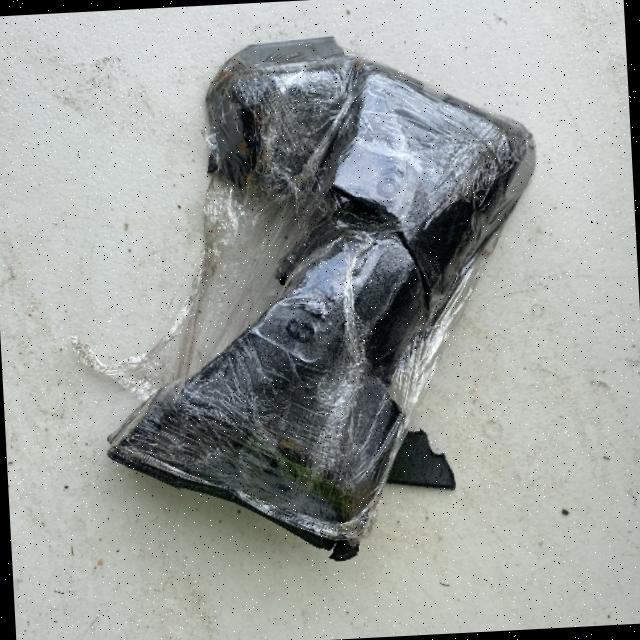styrofoam: (68, 23, 558, 574)
